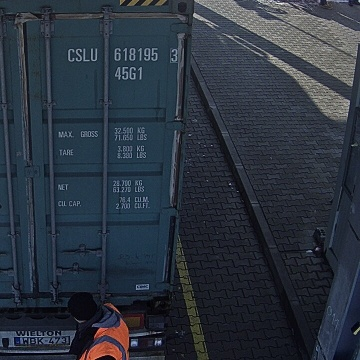serial_id: (68, 48, 178, 61)
